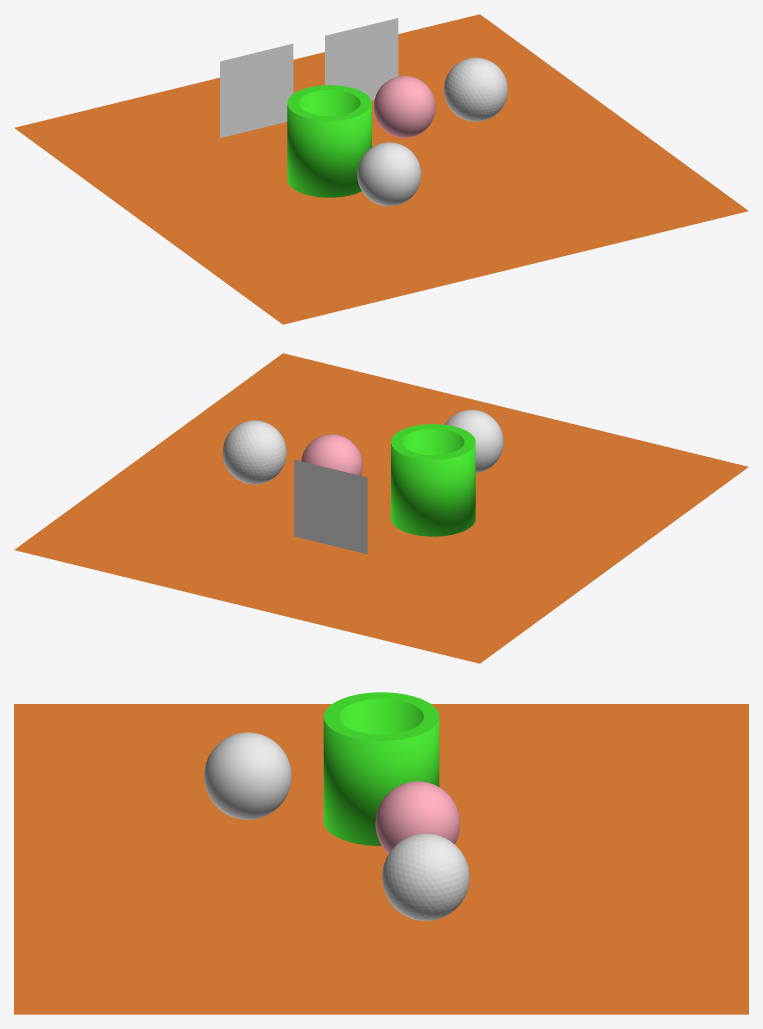
Rendered from transmissive1.gltf.
The picture shows the model from 3 angles, top to bottom: view 1: azimuth 30°, elevation 25°; view 2: azimuth 150°, elevation 25°; view 3: azimuth 270°, elevation 25°; orthographic projection. The views are drawn at different scales.
Visible parts, largest first — view 1: Plane, Plane.002, Cylinder, Icosphere.001, Icosphere, Sphere; view 2: Plane, Cylinder, Plane.001, Icosphere, Icosphere.001, Sphere; view 3: Plane, Cylinder, Icosphere.001, Icosphere, Sphere.
Part boxes in pixels (x1,y1,x2,y2): Plane: [14, 14, 748, 324]; Plane.002: [220, 18, 398, 138]; Cylinder: [287, 85, 371, 197]; Icosphere.001: [357, 142, 421, 206]; Icosphere: [444, 57, 507, 121]; Sphere: [373, 76, 435, 137]; Plane: [14, 353, 748, 663]; Cylinder: [391, 424, 475, 536]; Plane.001: [294, 459, 367, 554]; Icosphere: [222, 420, 286, 484]; Icosphere.001: [444, 410, 503, 473]; Sphere: [301, 434, 362, 475]; Plane: [14, 704, 748, 1014]; Cylinder: [323, 692, 439, 845]; Icosphere.001: [204, 732, 291, 819]; Icosphere: [382, 833, 469, 920]; Sphere: [375, 781, 460, 853].
Size of the model in its own units: 12.69 by 2.06 by 12.69.
